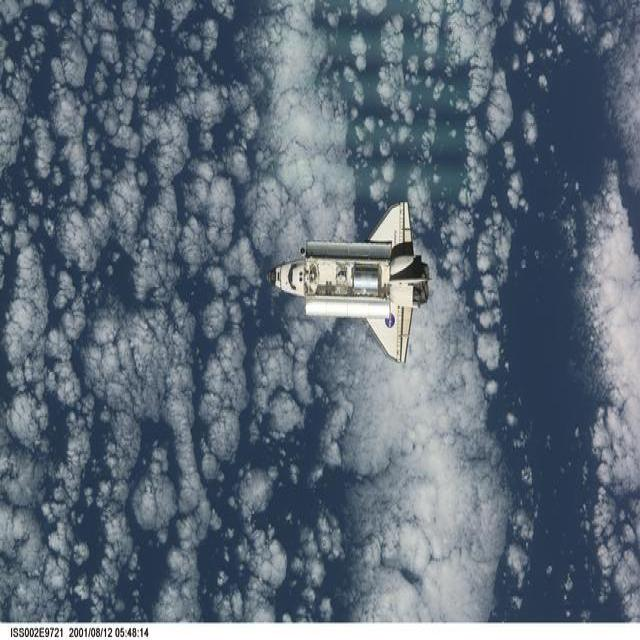satellite: (266, 202, 427, 372)
